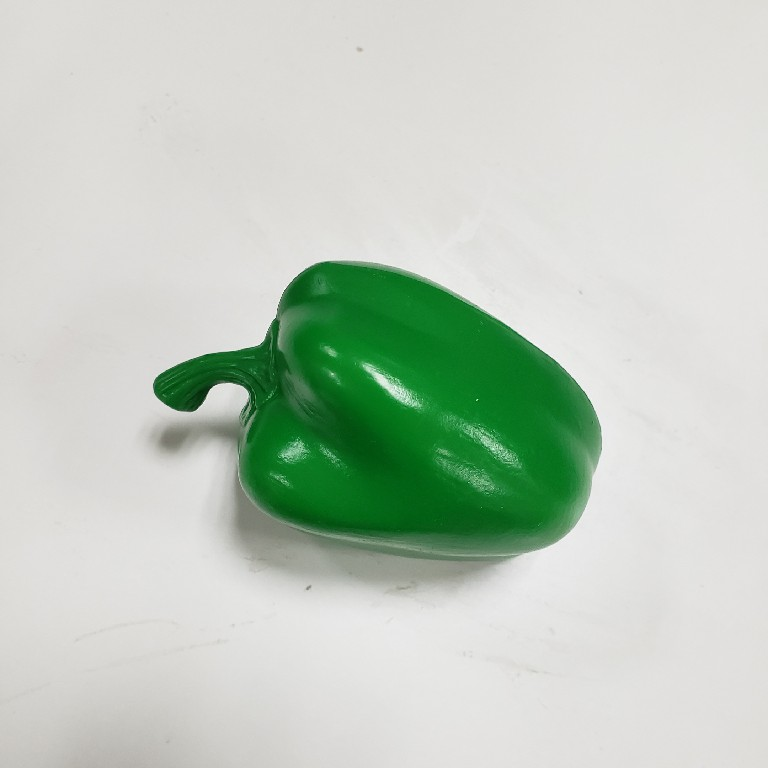fruit_pepper: (148, 253, 604, 563)
